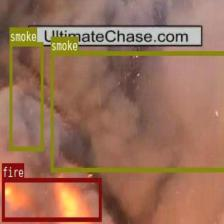fire: (1, 177, 102, 221)
smoke: (50, 51, 224, 171), (9, 42, 43, 150)
